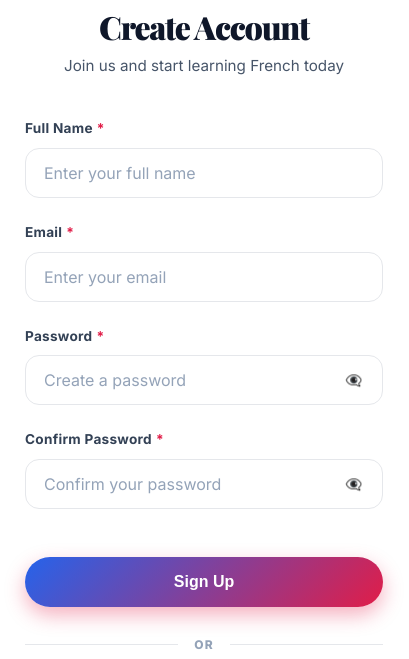
Test: SignupForm › validates password confirmation
Type "Test1234" into the password field labelled "Password*" at (204, 380), box x1=25 y1=355 x2=383 y2=405
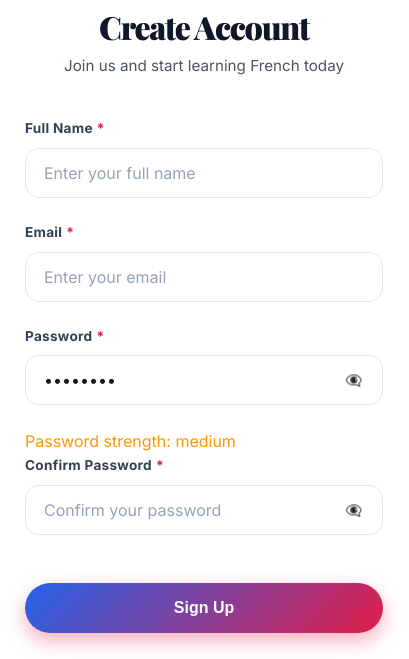
Type "Test5678" into the password field labelled "Confirm Password*" at (204, 510), box x1=25 y1=485 x2=383 y2=535
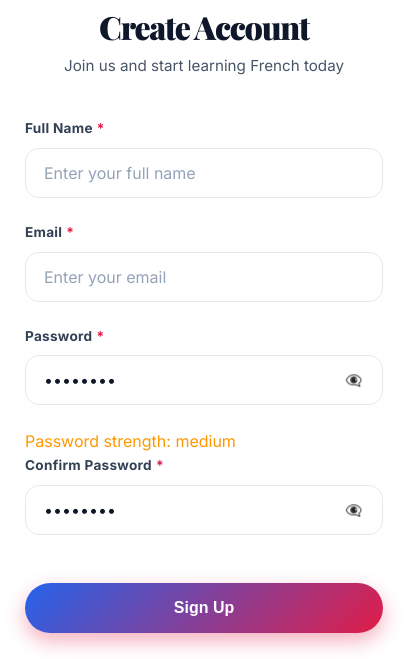
Click the button "Sign Up" at (204, 608), box x1=25 y1=583 x2=383 y2=633
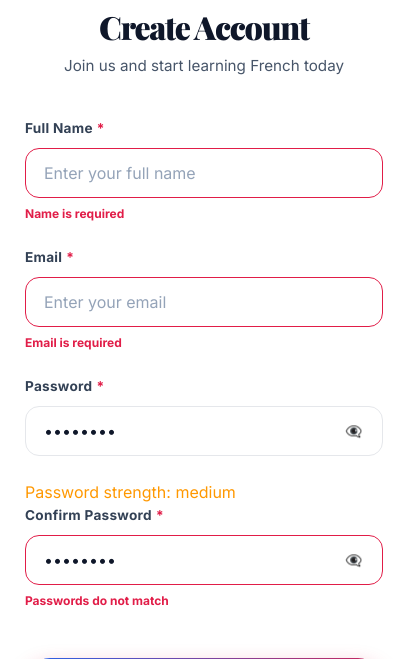
Now the text "Passwords do not match" is shown, box x1=25 y1=593 x2=169 y2=608
